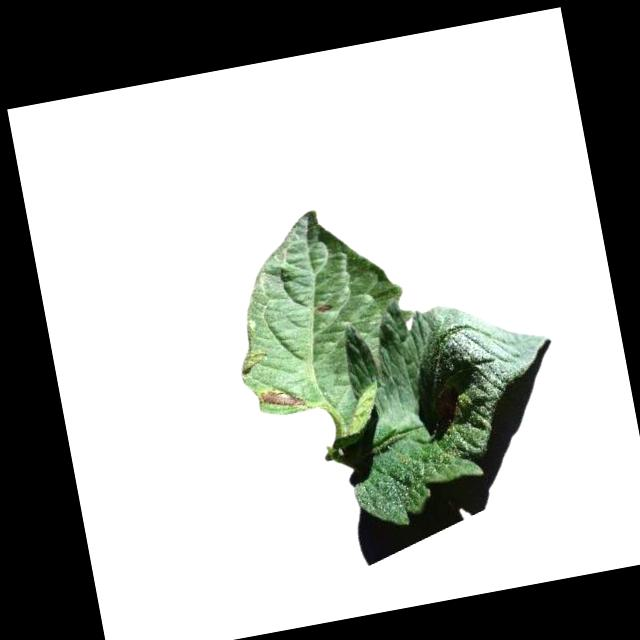Early_blight: (255, 378, 307, 410), (315, 301, 334, 315)
